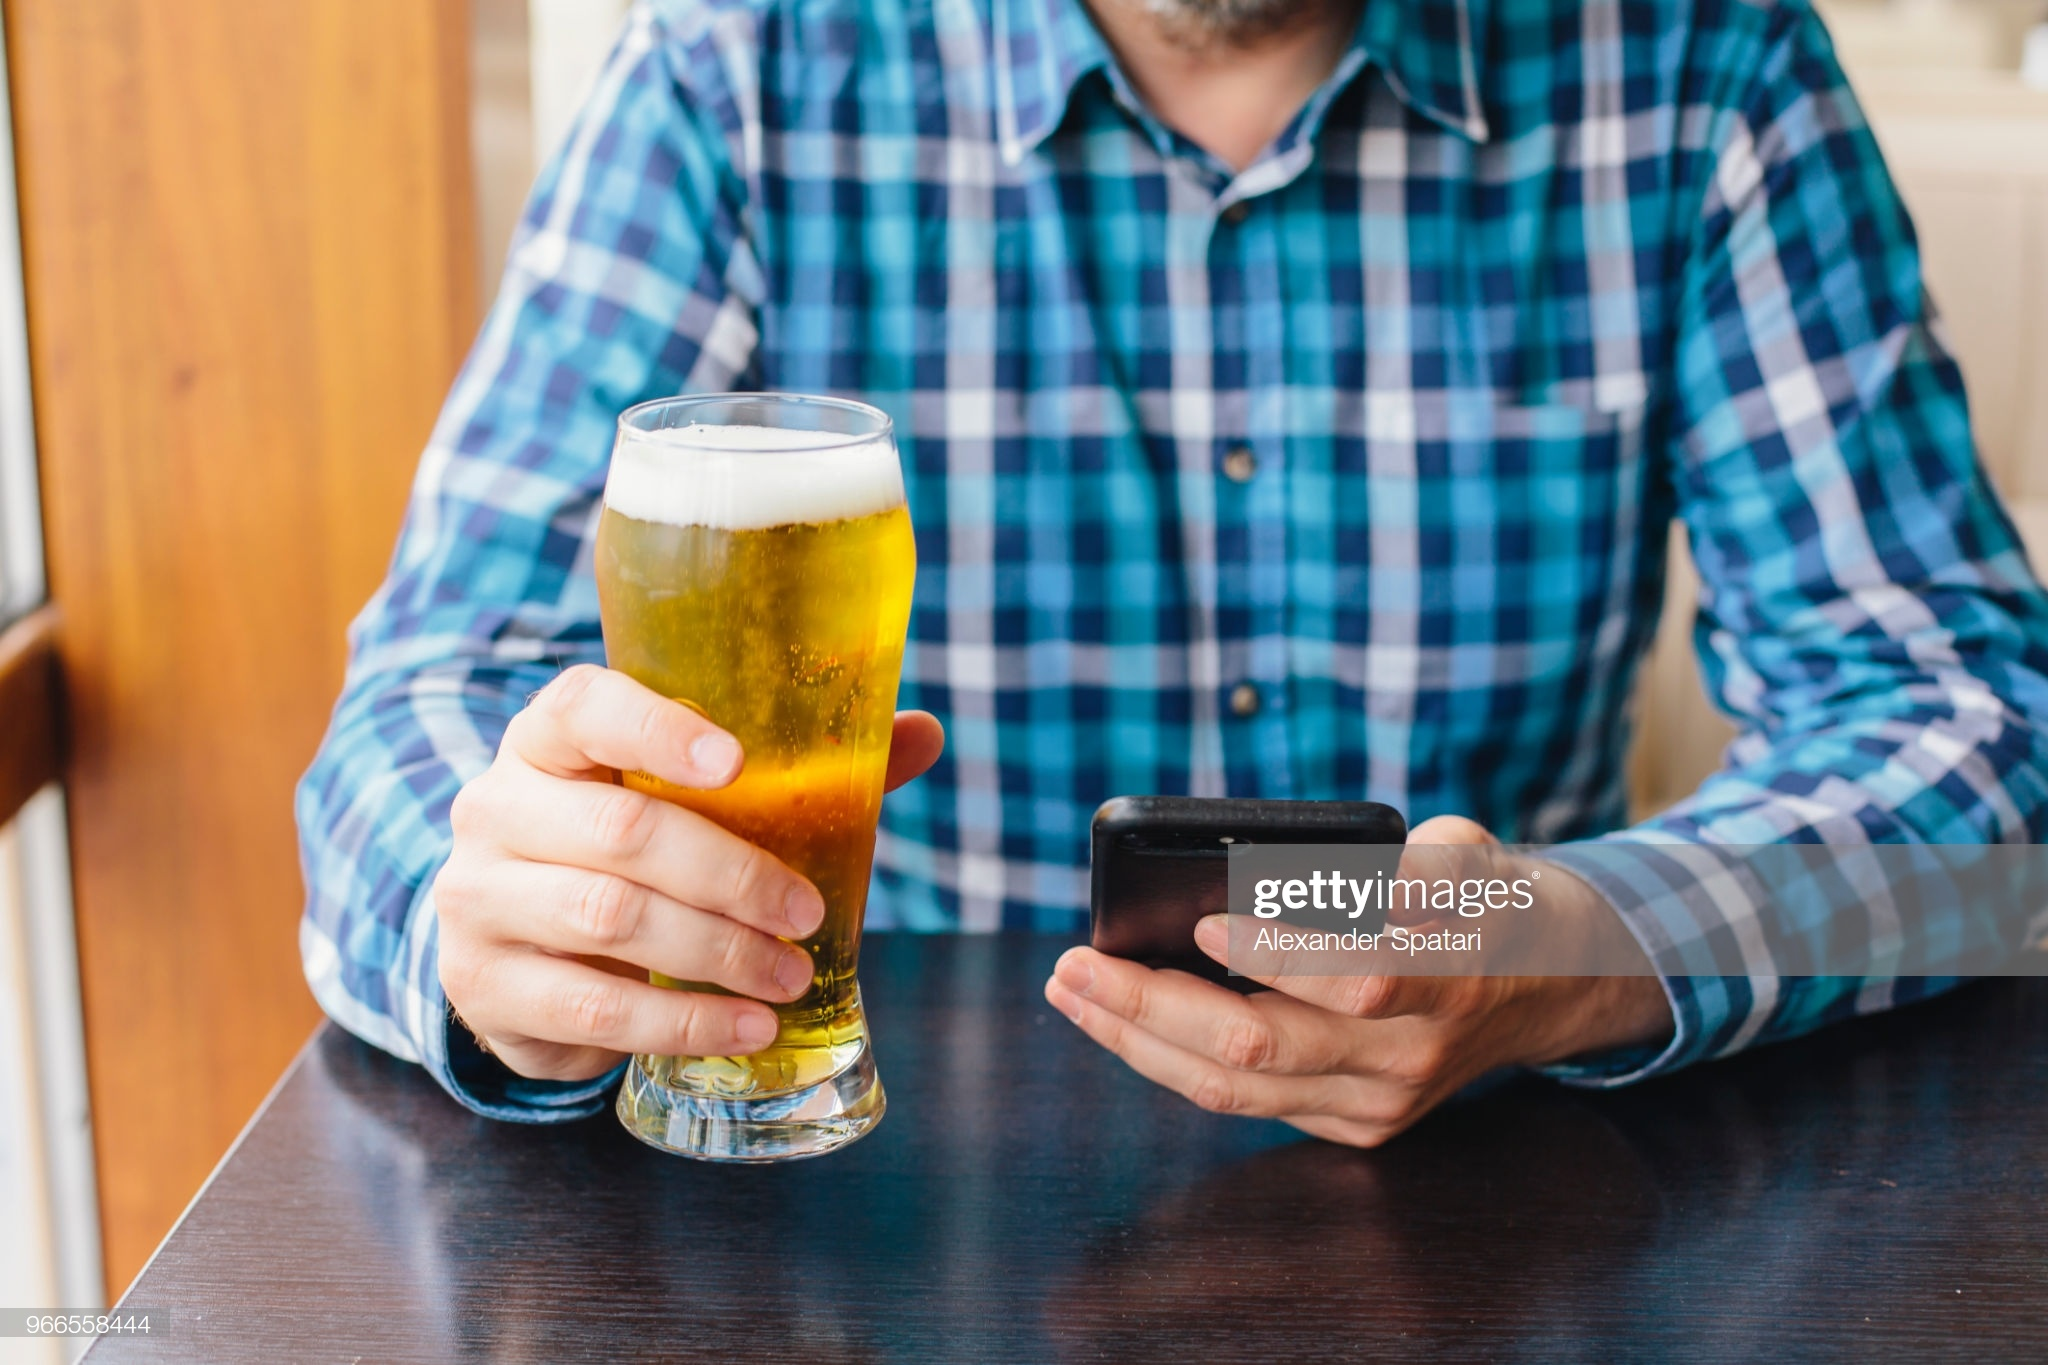glassBeer: (620, 392, 936, 1167)
